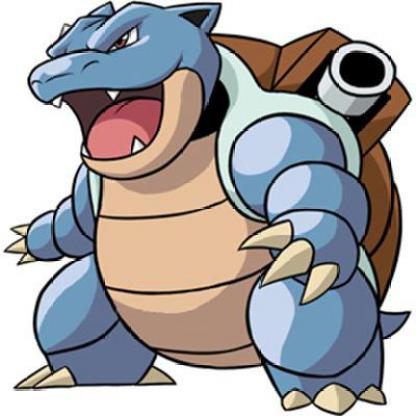Blastoise: (1, 1, 416, 415)
